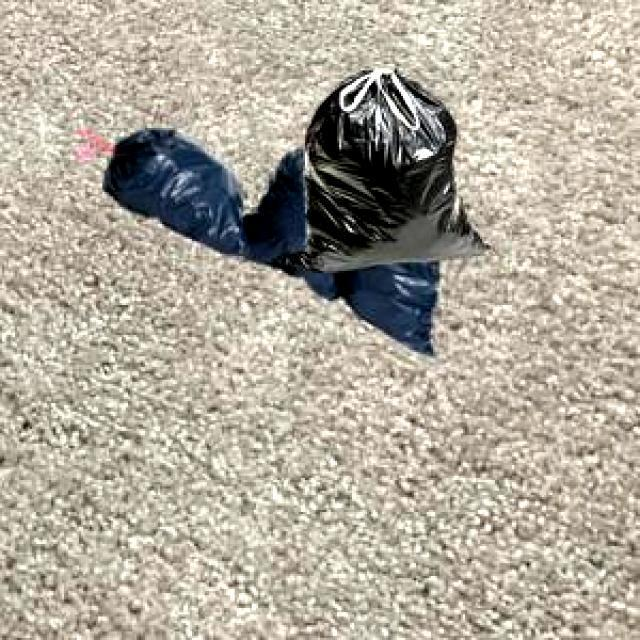Bolsa-de-nilon: (101, 67, 490, 352)
